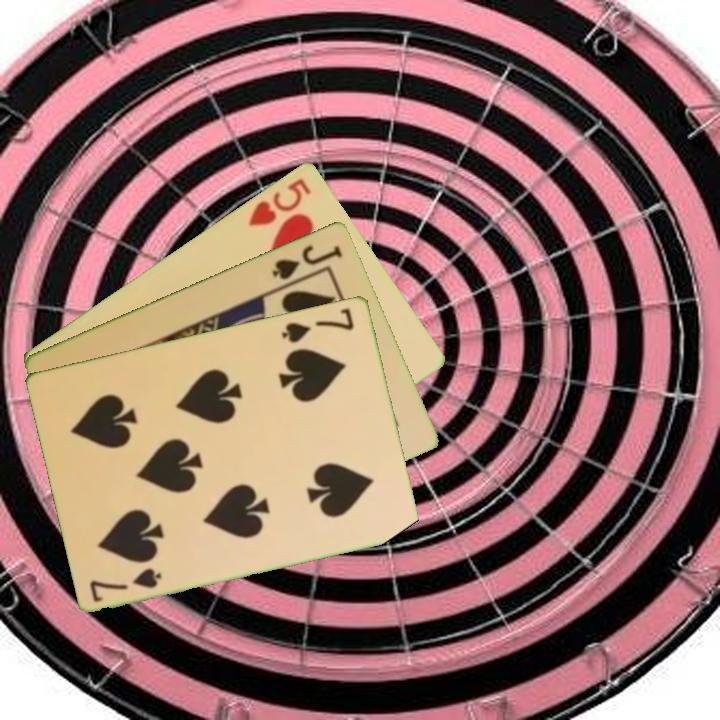5h: (244, 174, 314, 229)
7s: (278, 304, 357, 345), (86, 564, 165, 605)
Js: (268, 241, 346, 282)
